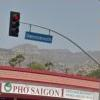Traffic light: (4, 4, 31, 56)
